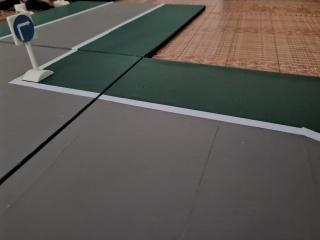right: (8, 14, 39, 48)
